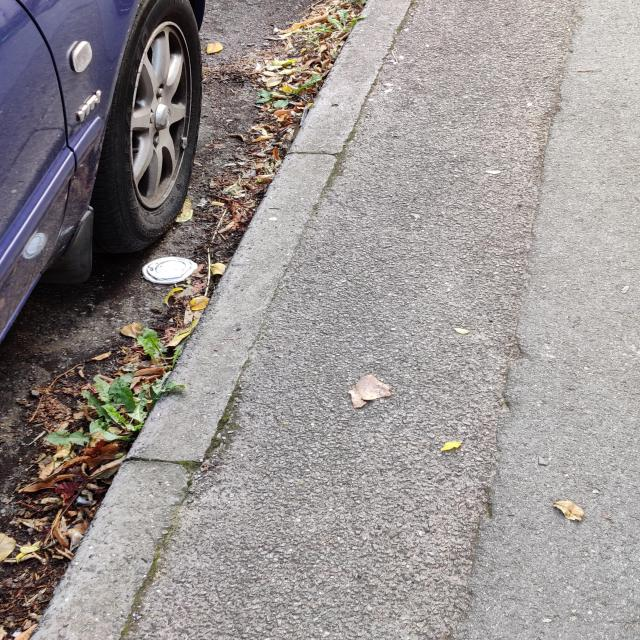litter: (133, 251, 203, 294)
